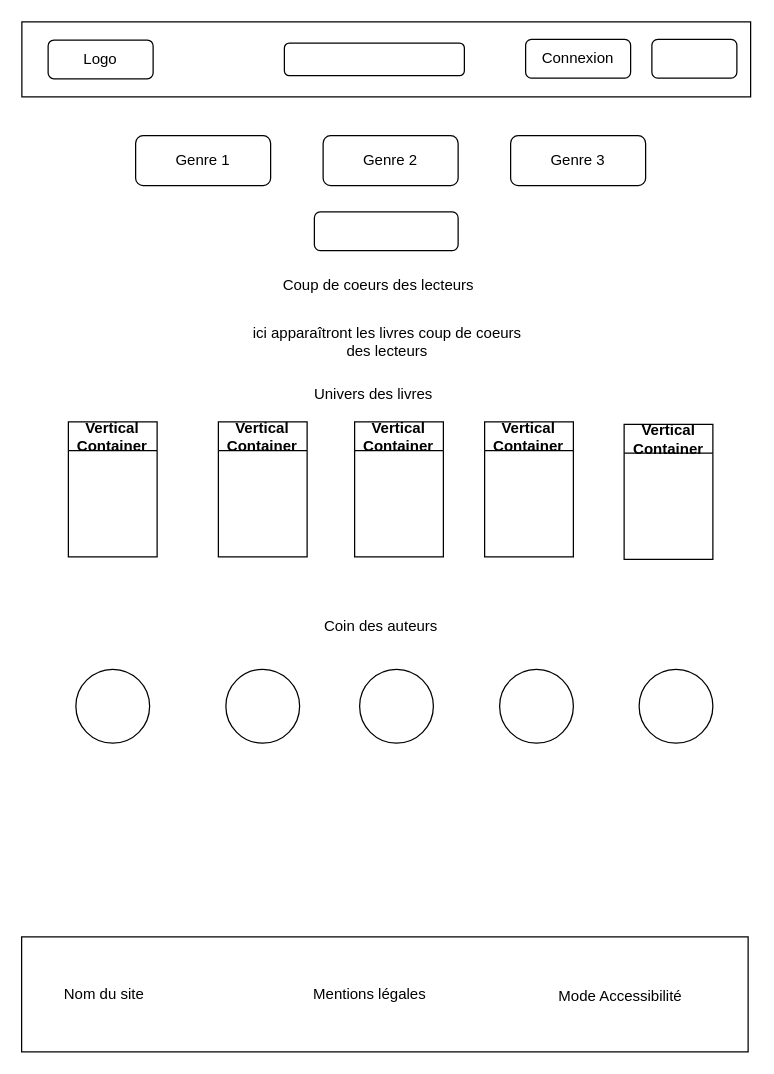
Image size: 774x1074. Some labels were removed from this diagram. The box of each missing label's shape, as (x1, y1, x2, y2) in pixels:
Afficher la liste: (313, 211, 458, 251)
Handicap: (651, 38, 737, 78)
Moteur de recherche: (283, 42, 464, 76)
